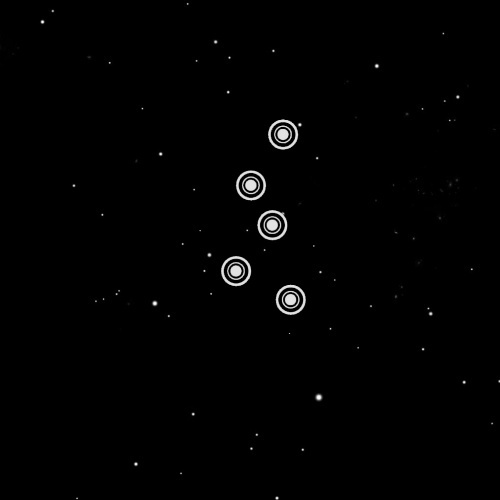cassiopeia: (211, 102, 316, 328)
